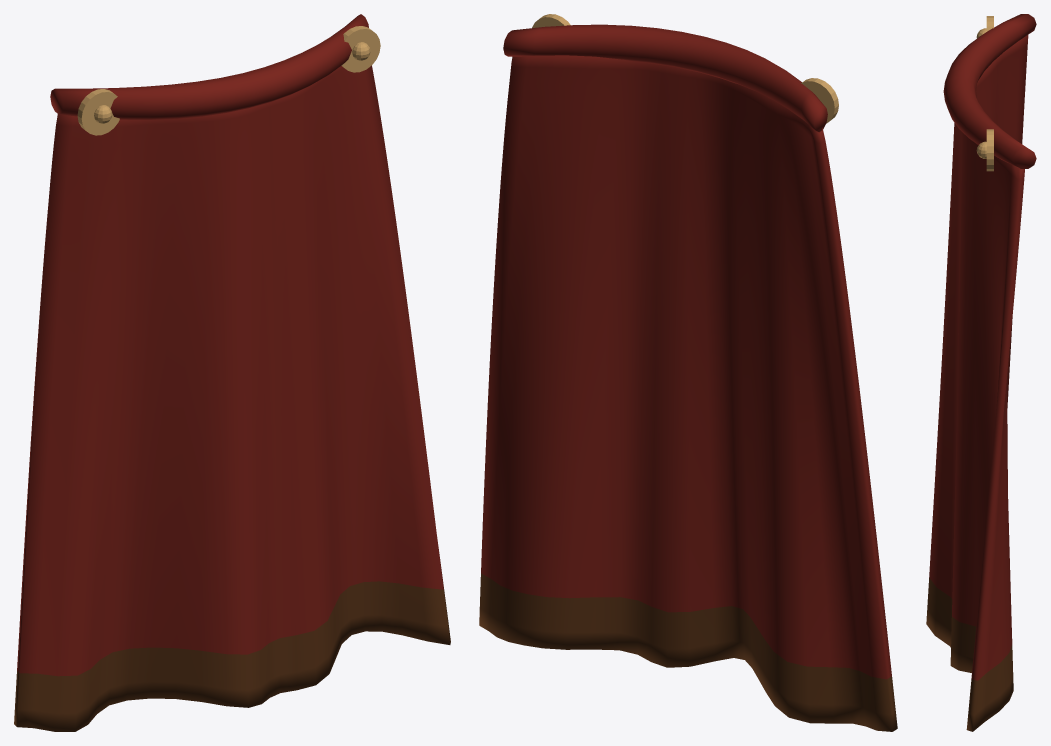
The model's file is cloak.glb.
The picture shows the model from 3 angles, left to right: view 1: azimuth 30°, elevation 25°; view 2: azimuth 150°, elevation 25°; view 3: azimuth 270°, elevation 25°; orthographic projection. The views are drawn at different scales.
Visible parts, largest first — view 1: cloak, collar, Cylinder, Cylinder.001; view 2: cloak, collar, Cylinder; view 3: cloak, collar, Cylinder.001.
Part boxes in pixels (box(x1,y1,x2,y2)): cloak: box(14, 65, 450, 731); collar: box(50, 14, 368, 119); Cylinder: box(77, 89, 119, 135); Cylinder.001: box(341, 26, 380, 72); cloak: box(479, 55, 897, 731); collar: box(503, 24, 827, 132); Cylinder: box(801, 78, 838, 123); cloak: box(926, 35, 1028, 731); collar: box(943, 14, 1036, 168); Cylinder.001: box(986, 129, 993, 171).
Bounding box in the file's own units: 0.7042 × 1 × 0.1768.
